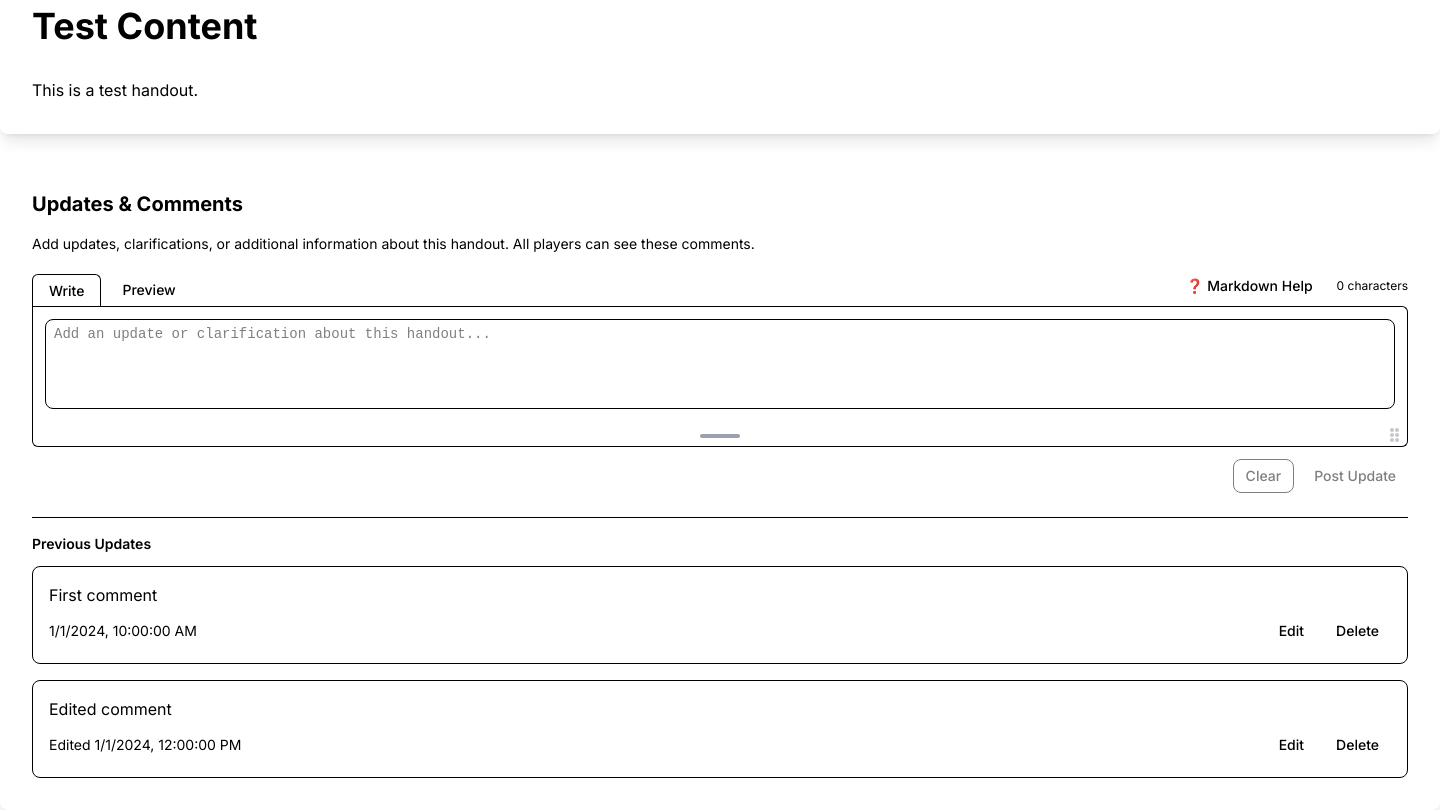
Test: HandoutView › Edit Mode › reverts to view mode when cancel button clicked
(page scrolled)
Expected: the text "First comment" is shown, x1=49 y1=585 x2=157 y2=605
Click the button "Edit" in the row of "1/1/2024, 10:00:00 AM". click: [1291, 631]
box: x1=1267 y1=615 x2=1316 y2=647
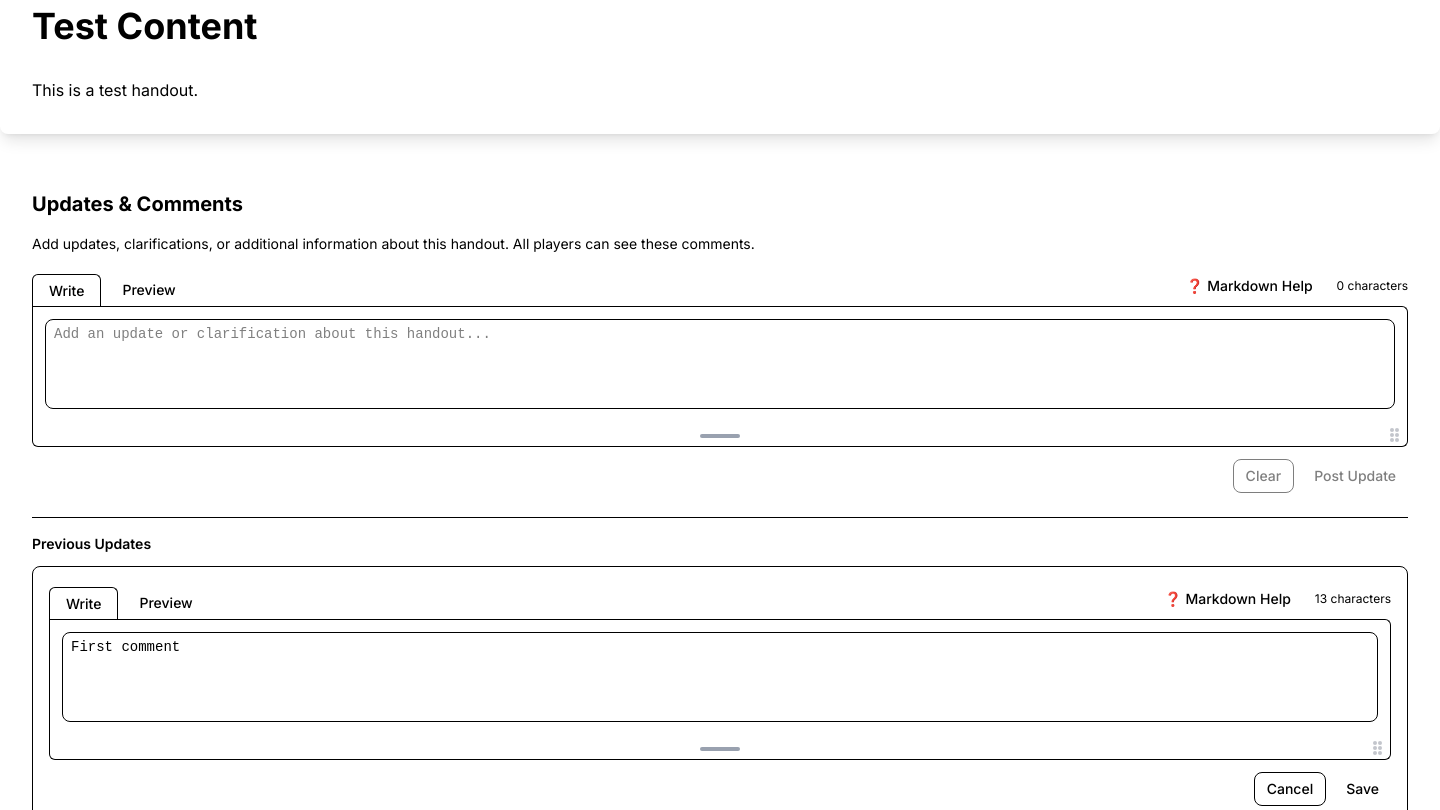
Expected: the button "Cancel" is shown
// Click cancel
Click the button "Cancel". click: [1290, 789]
box: x1=1254 y1=772 x2=1326 y2=806
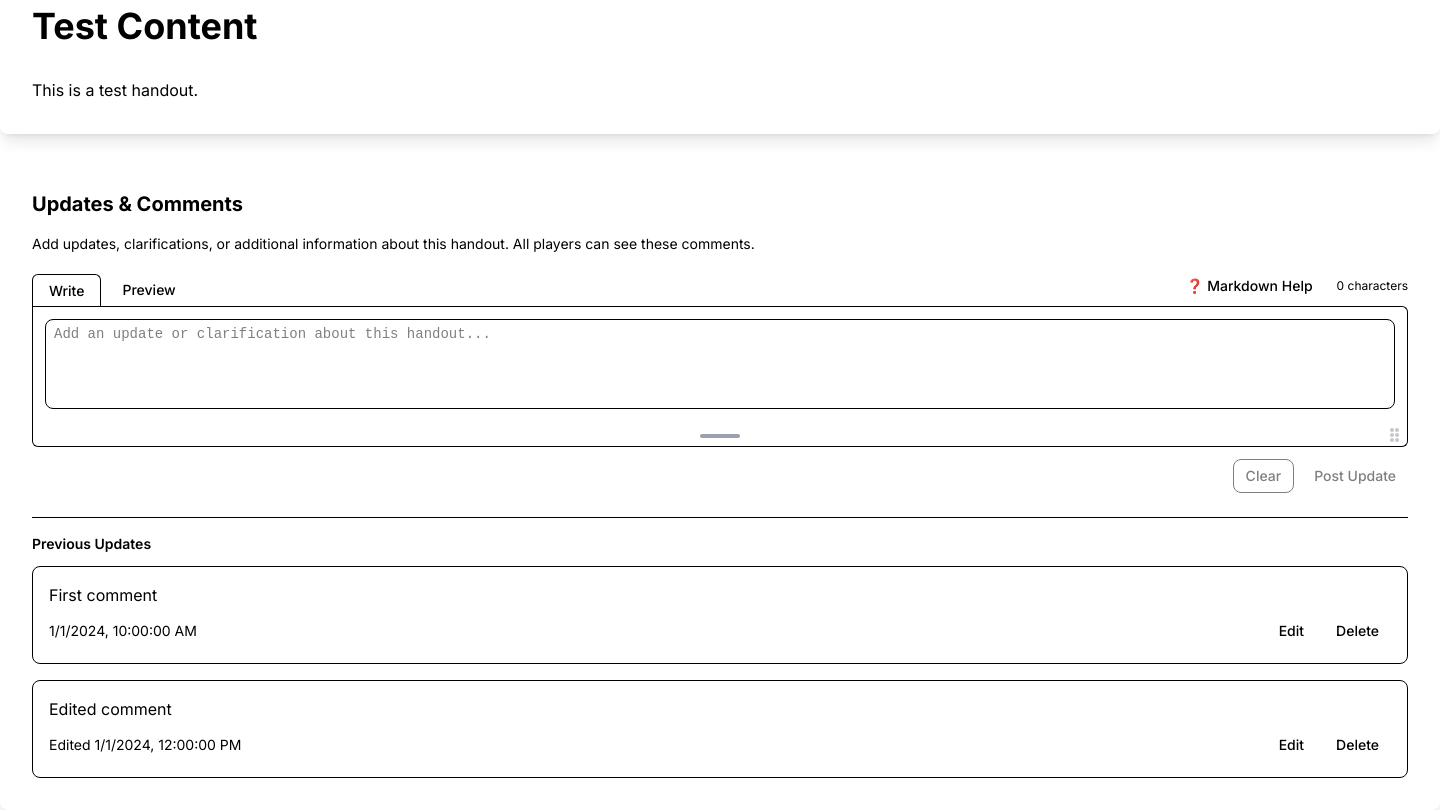
Expected: the button "Save" is gone
Expected: the button "Cancel" is gone
